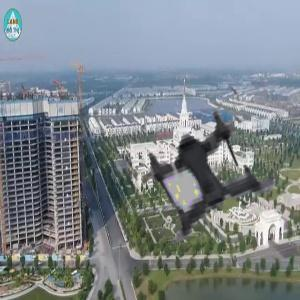drone: (124, 92, 286, 254)
